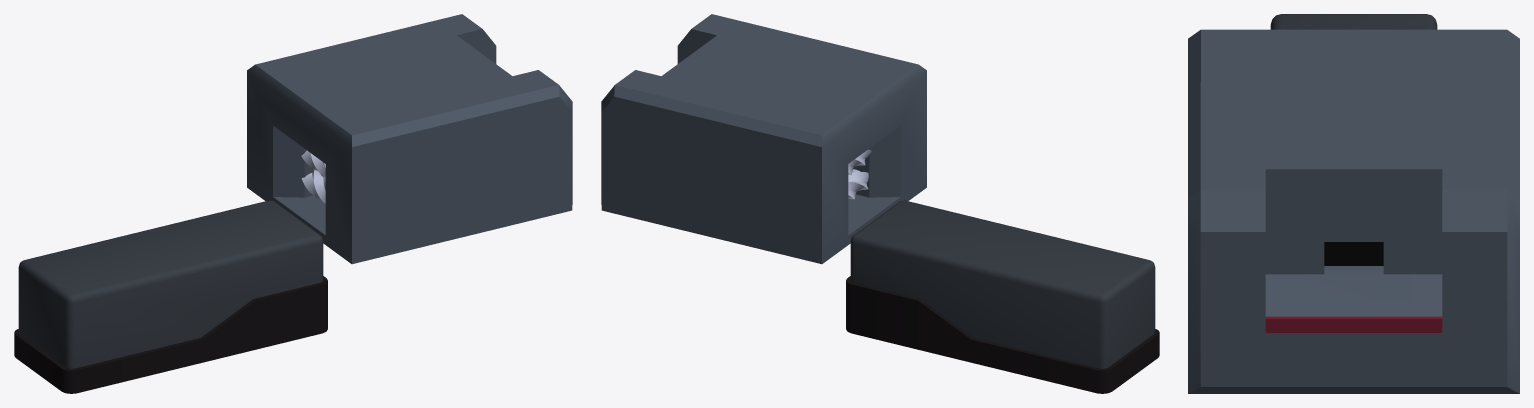
Rendered from MM_Fertilizer_Dispenser.fbx.
The picture shows the model from 3 angles, left to right: view 1: azimuth 30°, elevation 25°; view 2: azimuth 150°, elevation 25°; view 3: azimuth 270°, elevation 25°; orthographic projection. The views are drawn at different scales.
Visible parts, largest first — view 1: Cube.037; view 2: Cube.037; view 3: Cube.037.
Part boxes in pixels (left/top/right/bottom): Cube.037: left=14, top=14, right=572, bottom=393; Cube.037: left=601, top=14, right=1159, bottom=393; Cube.037: left=1188, top=14, right=1519, bottom=393.
Bounding box in the file's own units: 451 × 187 × 169.
